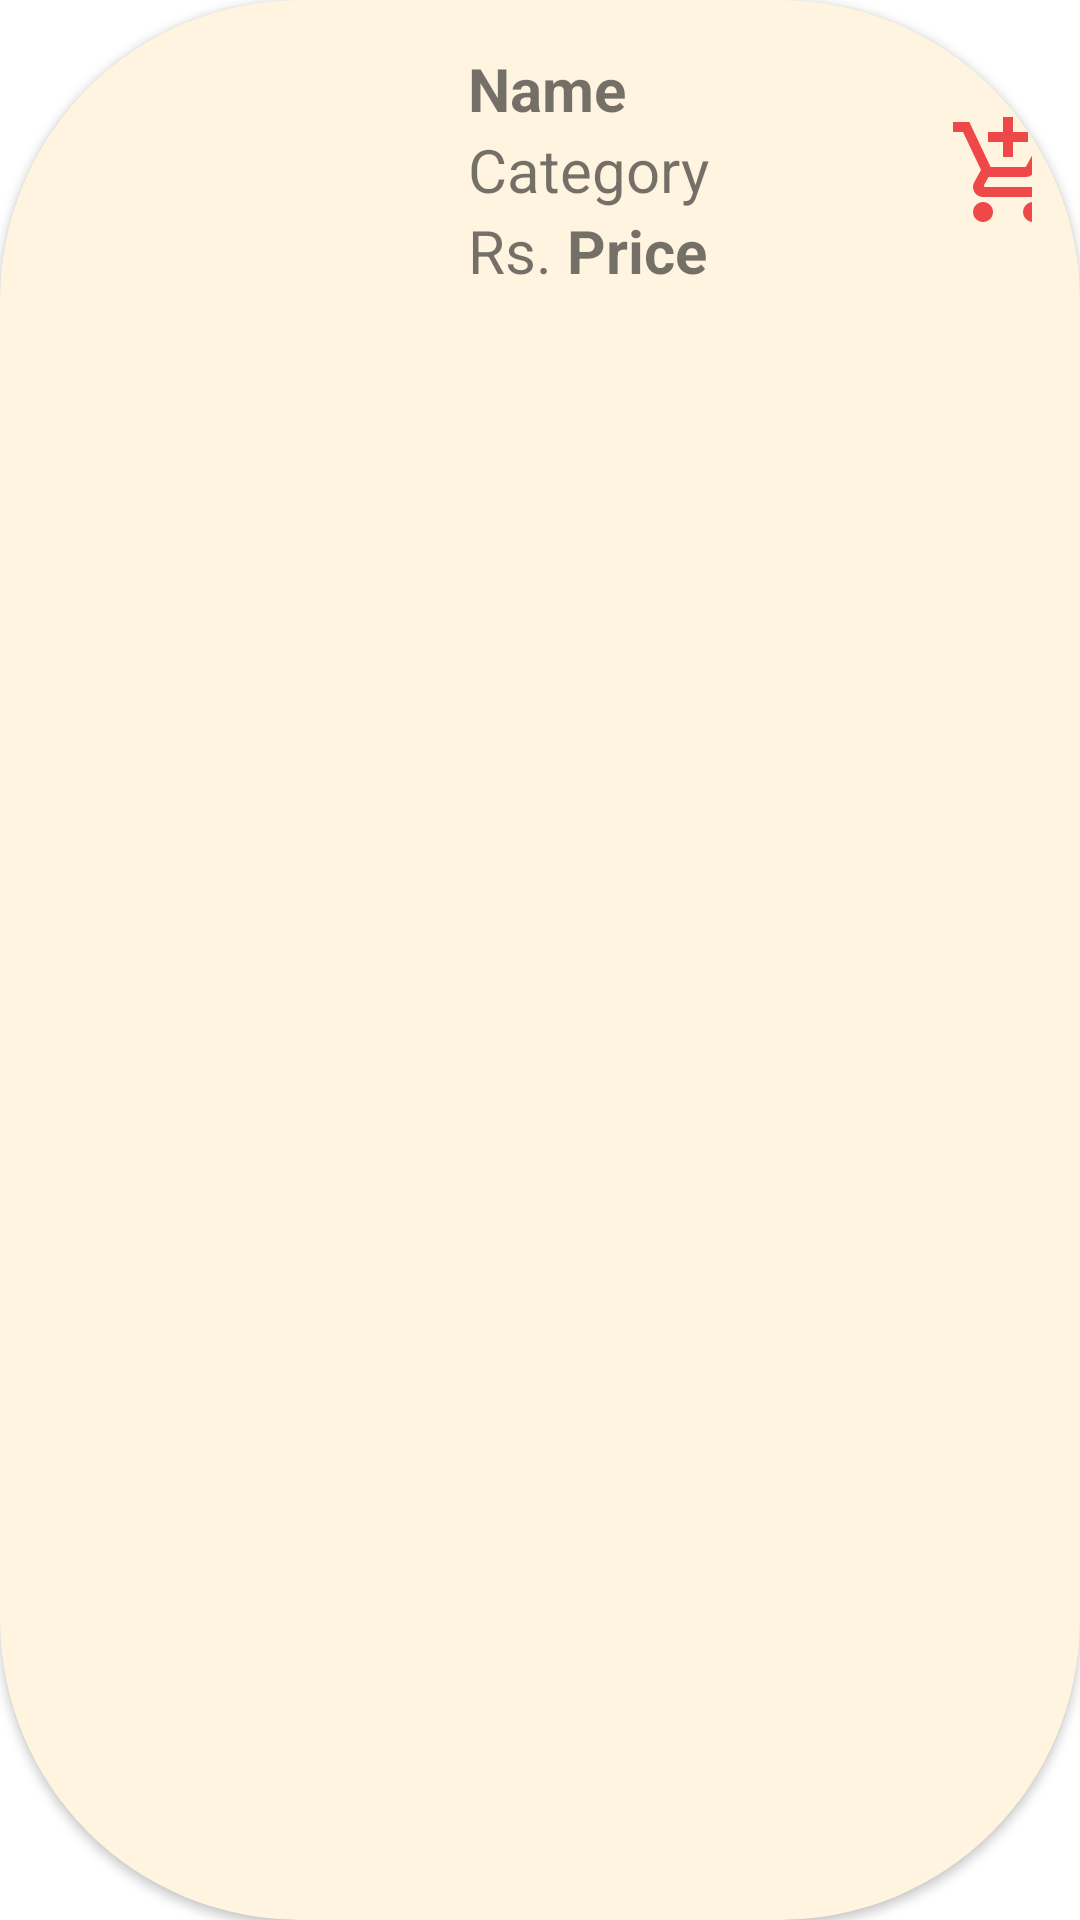

Icon bounding boxes for this 1080×1920 phone screenshot, format (x1, y1, x2, y2):
add shopping cart: (953, 116, 1068, 222)
